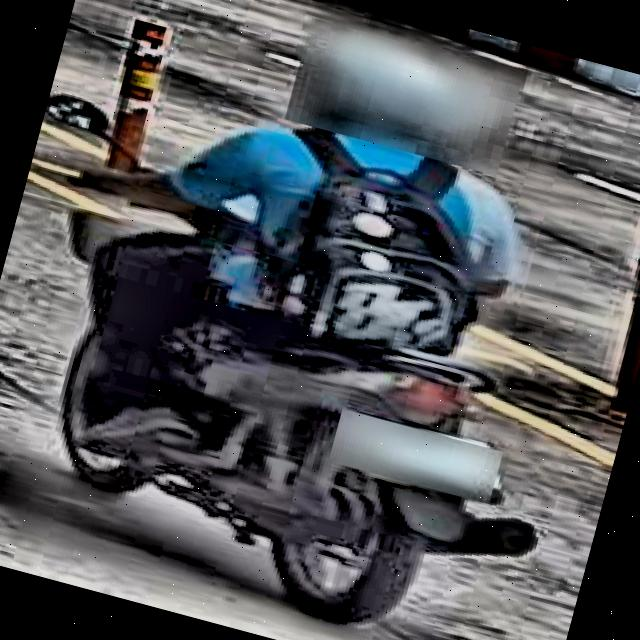motorcycle: (0, 73, 617, 640)
